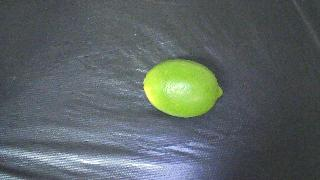LOCAL: (143, 59, 223, 117)
